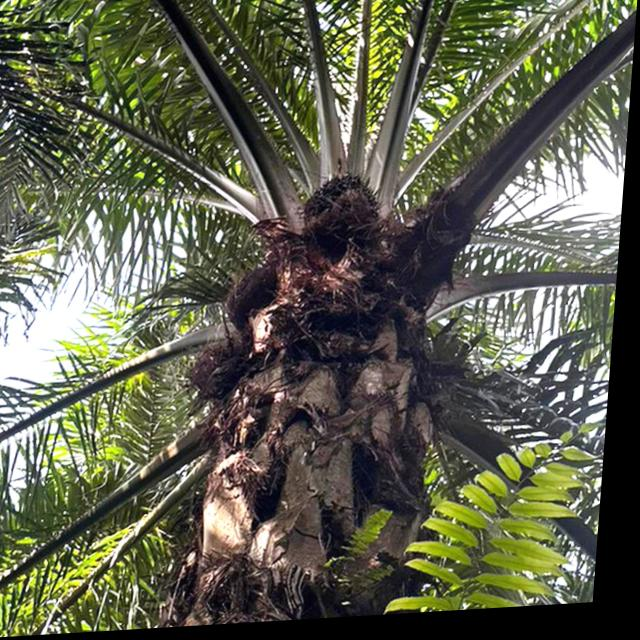unripe: (298, 168, 397, 255)
